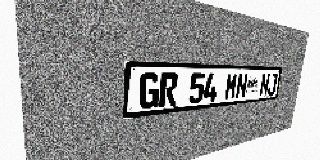4: (203, 73, 219, 103)
5: (188, 73, 205, 104)
G: (138, 73, 160, 110)
J: (267, 73, 278, 95)
M: (224, 73, 238, 100)
N: (235, 73, 248, 99), (259, 73, 270, 96)
R: (159, 73, 178, 108)
